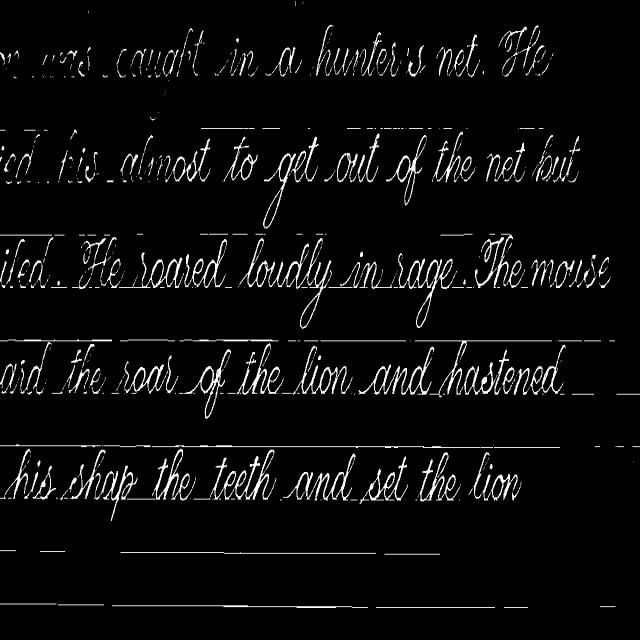noise: (0, 443, 562, 450), (120, 548, 440, 558), (110, 601, 496, 609), (0, 338, 279, 343), (416, 340, 602, 344), (0, 602, 106, 607), (0, 547, 65, 555), (593, 444, 640, 451), (302, 340, 407, 343), (0, 232, 65, 236), (380, 127, 422, 131), (200, 233, 250, 236), (518, 127, 544, 132), (201, 127, 254, 129), (440, 233, 472, 236), (78, 232, 97, 236), (314, 232, 327, 237), (262, 127, 280, 130), (254, 232, 266, 236), (24, 129, 40, 132), (135, 231, 144, 236), (366, 127, 376, 131), (347, 127, 360, 130), (296, 233, 306, 236), (72, 131, 78, 136), (439, 127, 452, 129), (0, 128, 6, 132), (42, 129, 48, 132), (428, 127, 432, 130)
not-noise: (0, 234, 610, 328), (30, 25, 554, 93), (0, 344, 564, 406), (4, 463, 280, 520), (0, 132, 211, 185), (276, 464, 410, 503), (416, 452, 522, 501), (415, 461, 517, 500), (264, 136, 318, 201), (386, 136, 429, 204), (0, 342, 52, 394), (332, 133, 380, 182), (430, 132, 476, 182), (530, 136, 578, 182), (485, 142, 529, 183), (71, 450, 106, 498), (263, 169, 288, 228), (251, 450, 274, 499), (163, 449, 183, 498), (226, 153, 258, 180), (340, 453, 356, 492), (210, 458, 226, 497), (246, 456, 259, 499), (0, 50, 20, 76), (394, 456, 406, 498), (235, 137, 248, 160), (150, 115, 156, 121)
